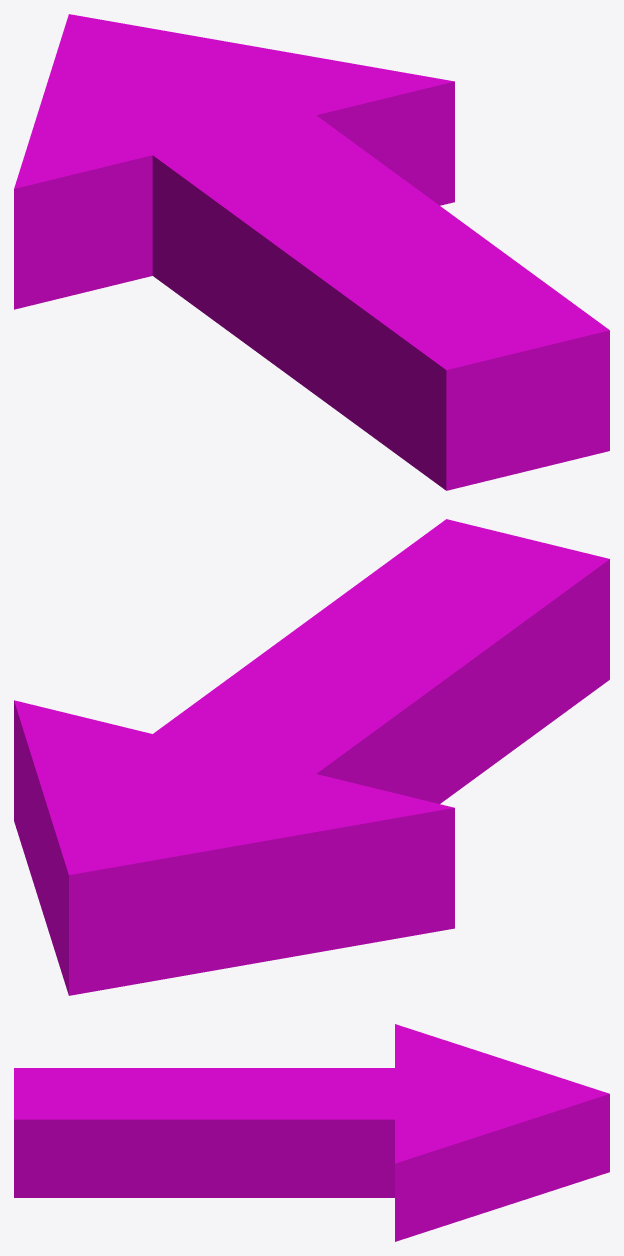
The model's file is arrow 1.fbx.
The picture shows the model from 3 angles, top to bottom: view 1: azimuth 30°, elevation 25°; view 2: azimuth 150°, elevation 25°; view 3: azimuth 270°, elevation 25°; orthographic projection. The views are drawn at different scales.
Parts seen in each view (by area): view 1: Cube; view 2: Cube; view 3: Cube.
Part boxes in pixels (x1,y1,x2,y2): Cube: (14, 14, 609, 490); Cube: (14, 519, 609, 995); Cube: (14, 1024, 609, 1241).
Size of the model in its own units: 173 by 45.3 by 312.
